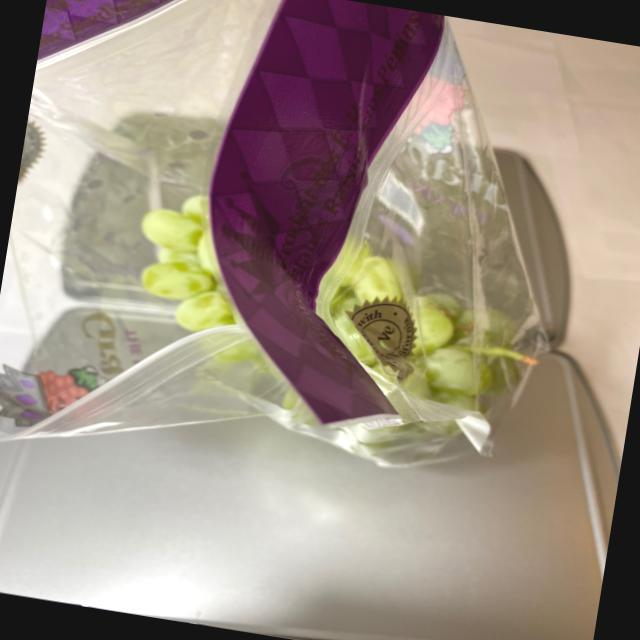grapes: (94, 169, 530, 431)
